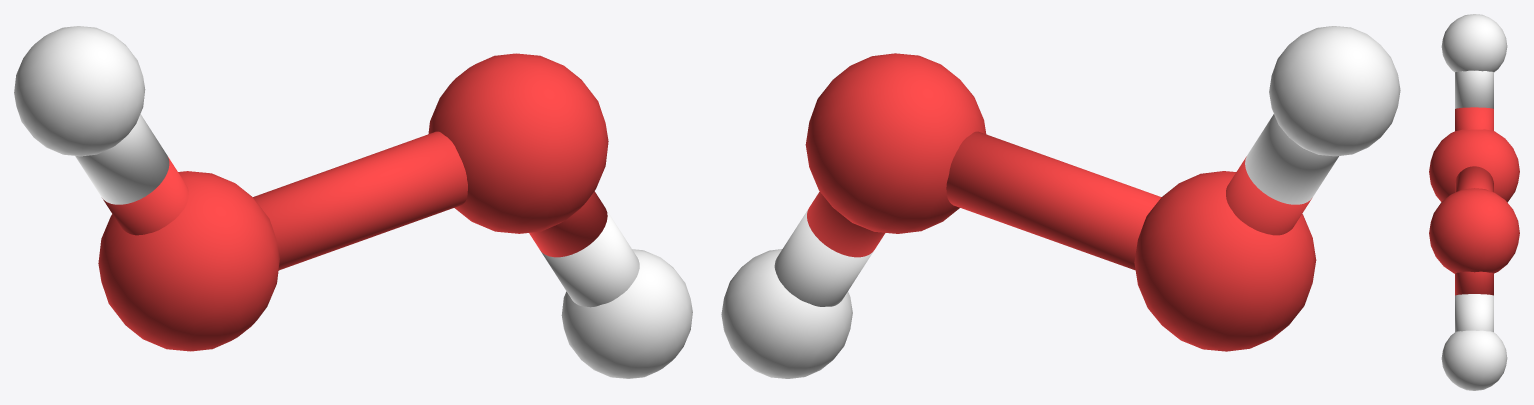
The picture shows the model from 3 angles, left to right: view 1: azimuth 30°, elevation 25°; view 2: azimuth 150°, elevation 25°; view 3: azimuth 270°, elevation 25°; orthographic projection. The views are drawn at different scales.
Visible parts, largest first — view 1: h2o2; view 2: h2o2; view 3: h2o2.
Part boxes in pixels (box(x1,y1,x2,y2)): h2o2: box(14, 26, 692, 378); h2o2: box(721, 26, 1400, 378); h2o2: box(1429, 14, 1519, 390).
Bounding box in the file's own units: 2.94 × 2.02 × 0.7.
